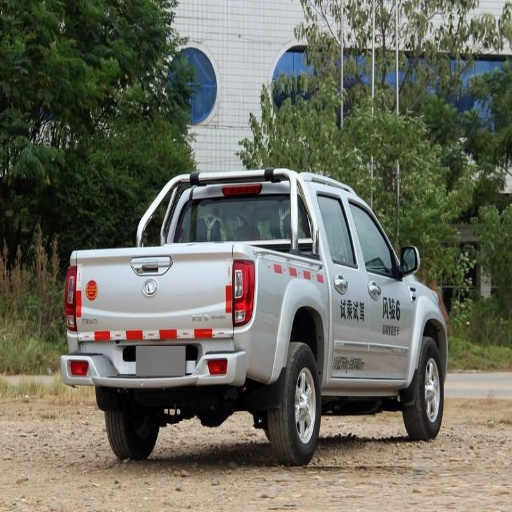back_bumper: (63, 334, 227, 388)
back_right_door: (313, 185, 377, 380)
trunk: (71, 243, 326, 383)
